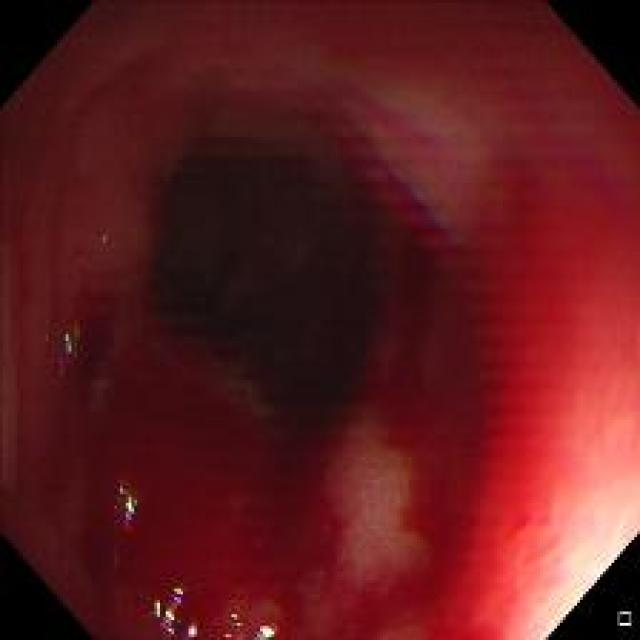blood: (356, 134, 619, 626), (25, 329, 405, 622)
color misalignment: (341, 60, 491, 278), (141, 572, 206, 634), (111, 452, 145, 532), (220, 600, 284, 634), (55, 320, 81, 380)
contrast: (142, 119, 432, 435)
saturation: (516, 486, 632, 629)
